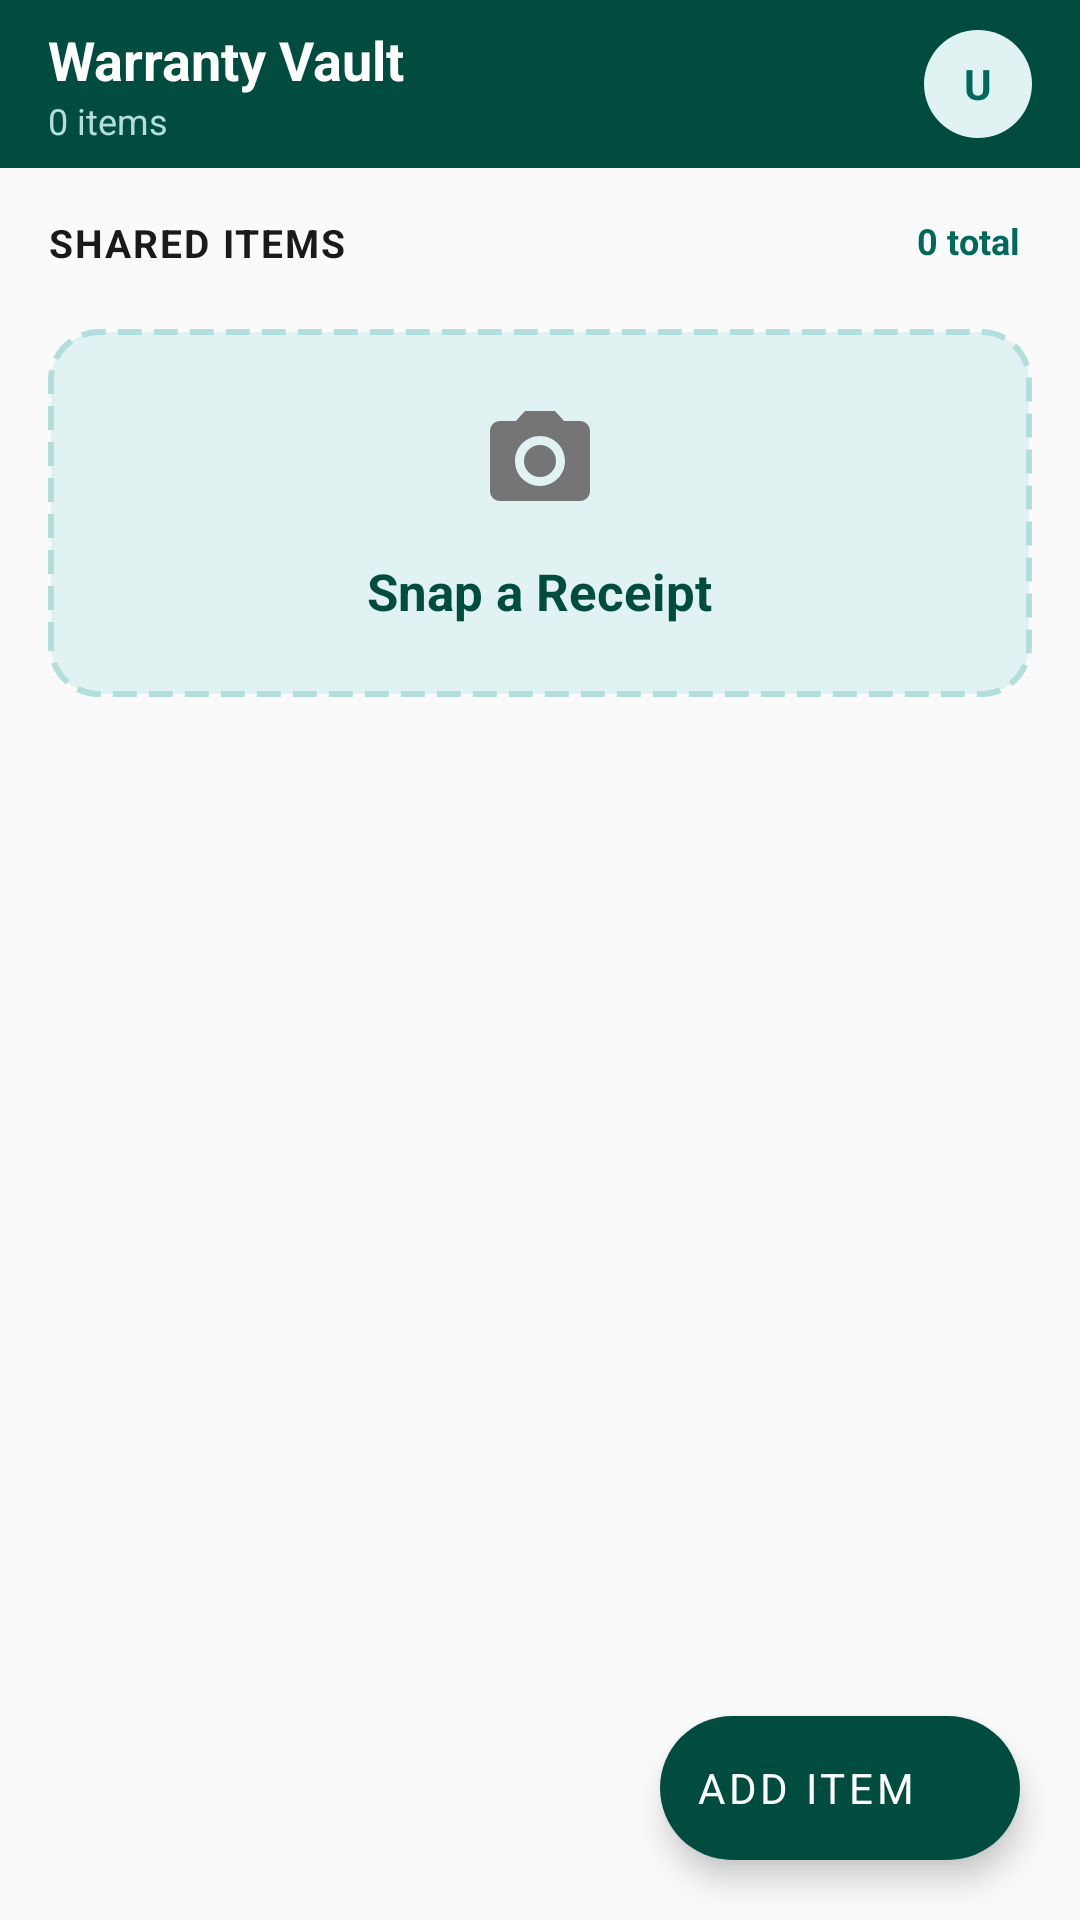

Where to tap for icons on this 1080px×1920px app screen, as (x,y):
camera: (540,456)
